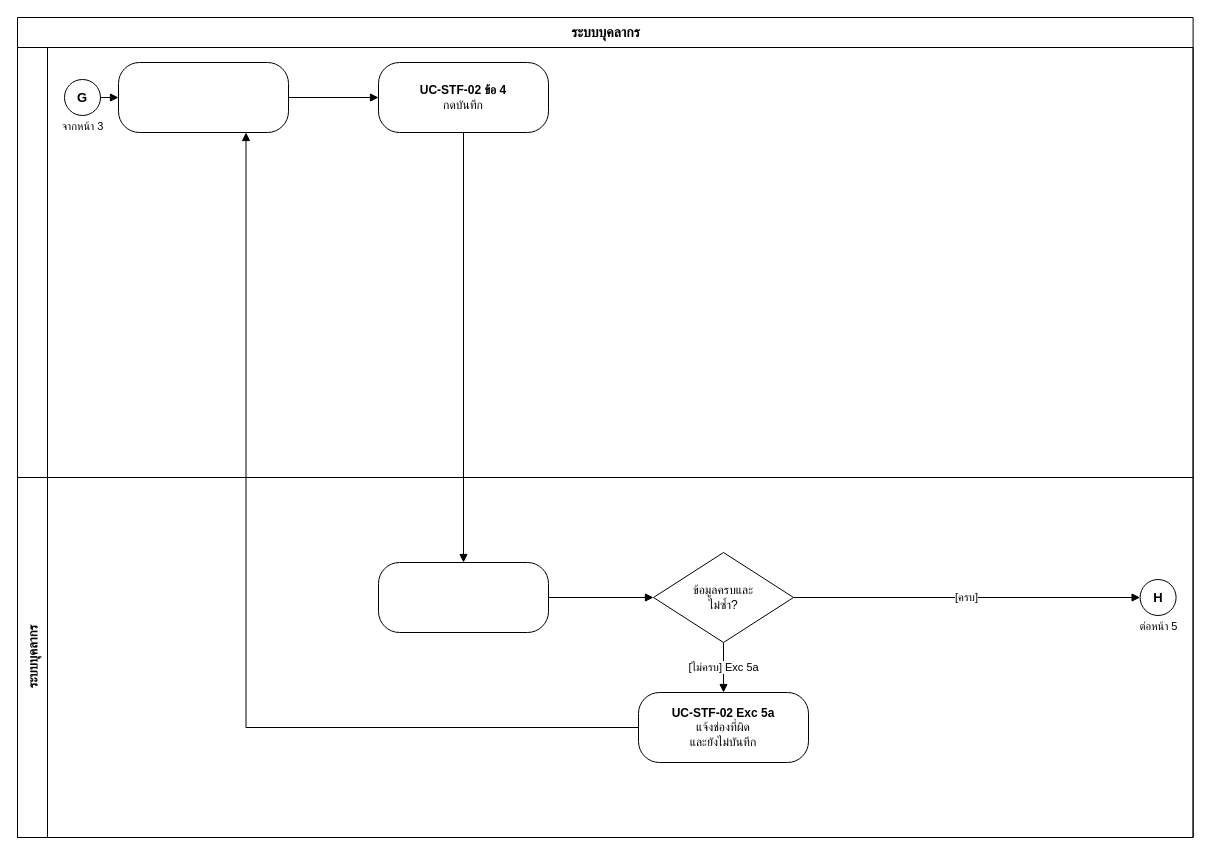
Image size: 1211x855. Some labels were removed from this diagram. Each missing label, with the box of its shape:
UC-STF-02 ข้อ 3 กรอกข้อมูลพื้นฐาน การศึกษา ตำแหน่งงาน: (118, 62, 288, 132)
UC-STF-02 ข้อ 5 ตรวจสอบข้อมูล: (378, 562, 548, 632)
เจ้าหน้าที่บุคคล: (16, 46, 1193, 478)
